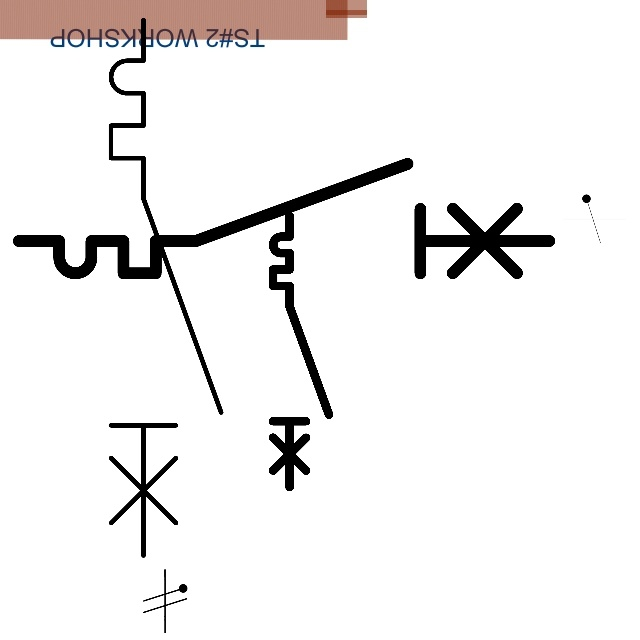interruptor_termomagnetico: (97, 6, 235, 569), (5, 150, 563, 287), (266, 209, 336, 494)
